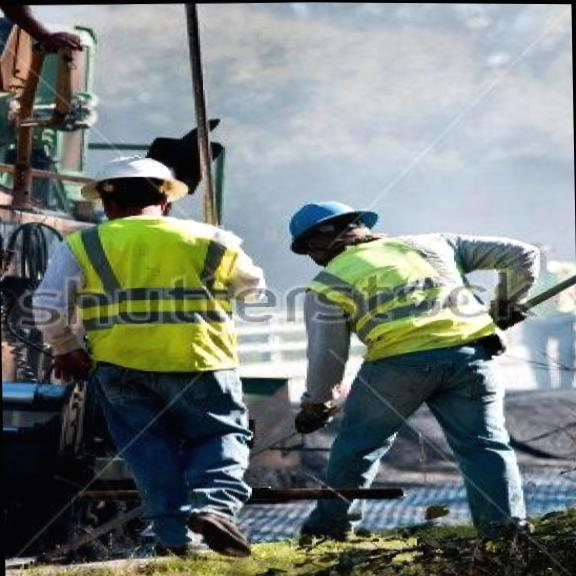safety_vest: (72, 207, 228, 373), (335, 231, 474, 354)
